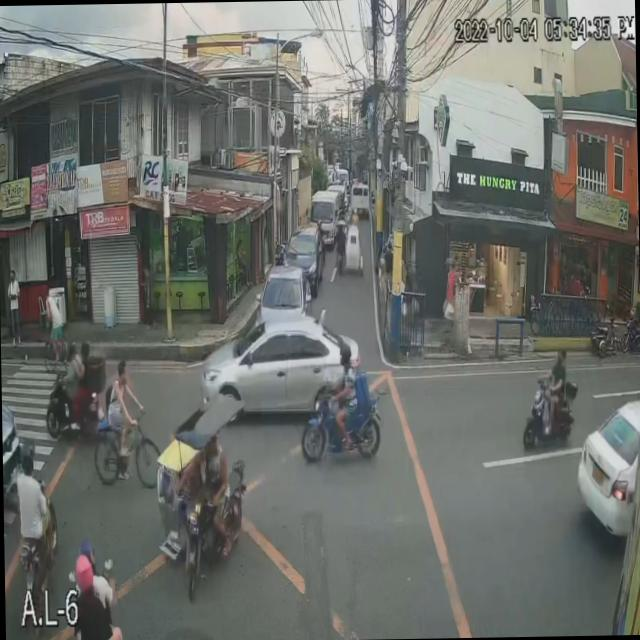full: (337, 339, 352, 367), (67, 340, 77, 360)
invalid: (556, 347, 566, 368)
not_wearing: (79, 339, 89, 364)
